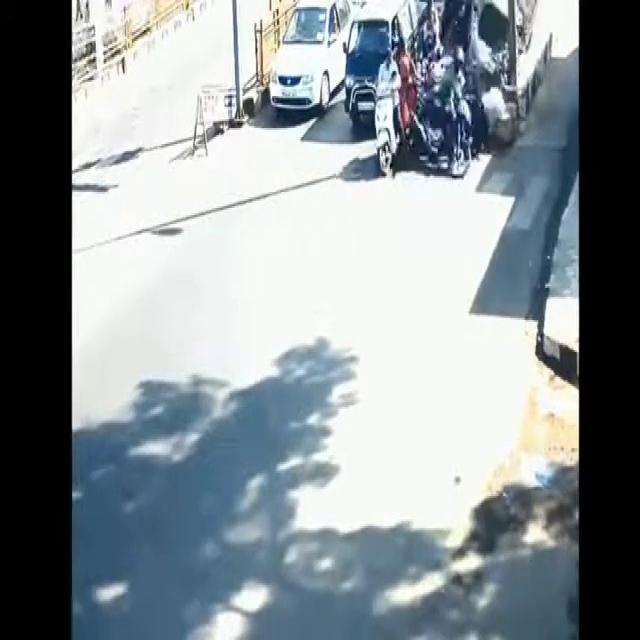accident: (403, 0, 502, 217), (402, 0, 490, 192)
